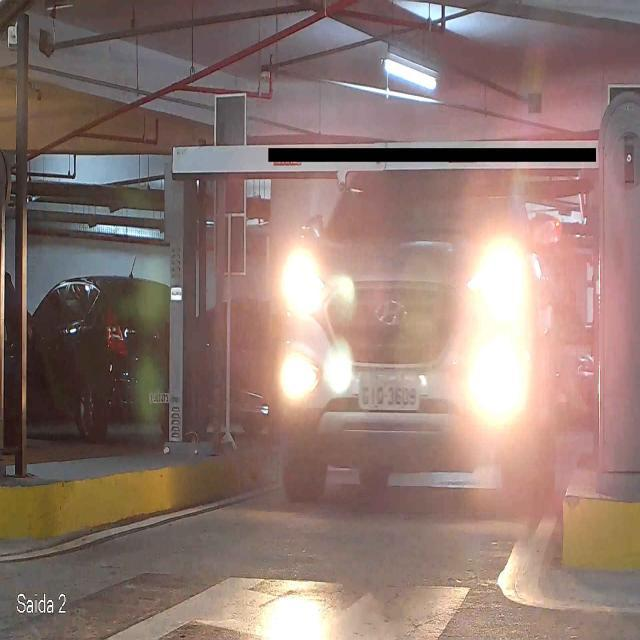old_plate: (357, 367, 422, 412)
